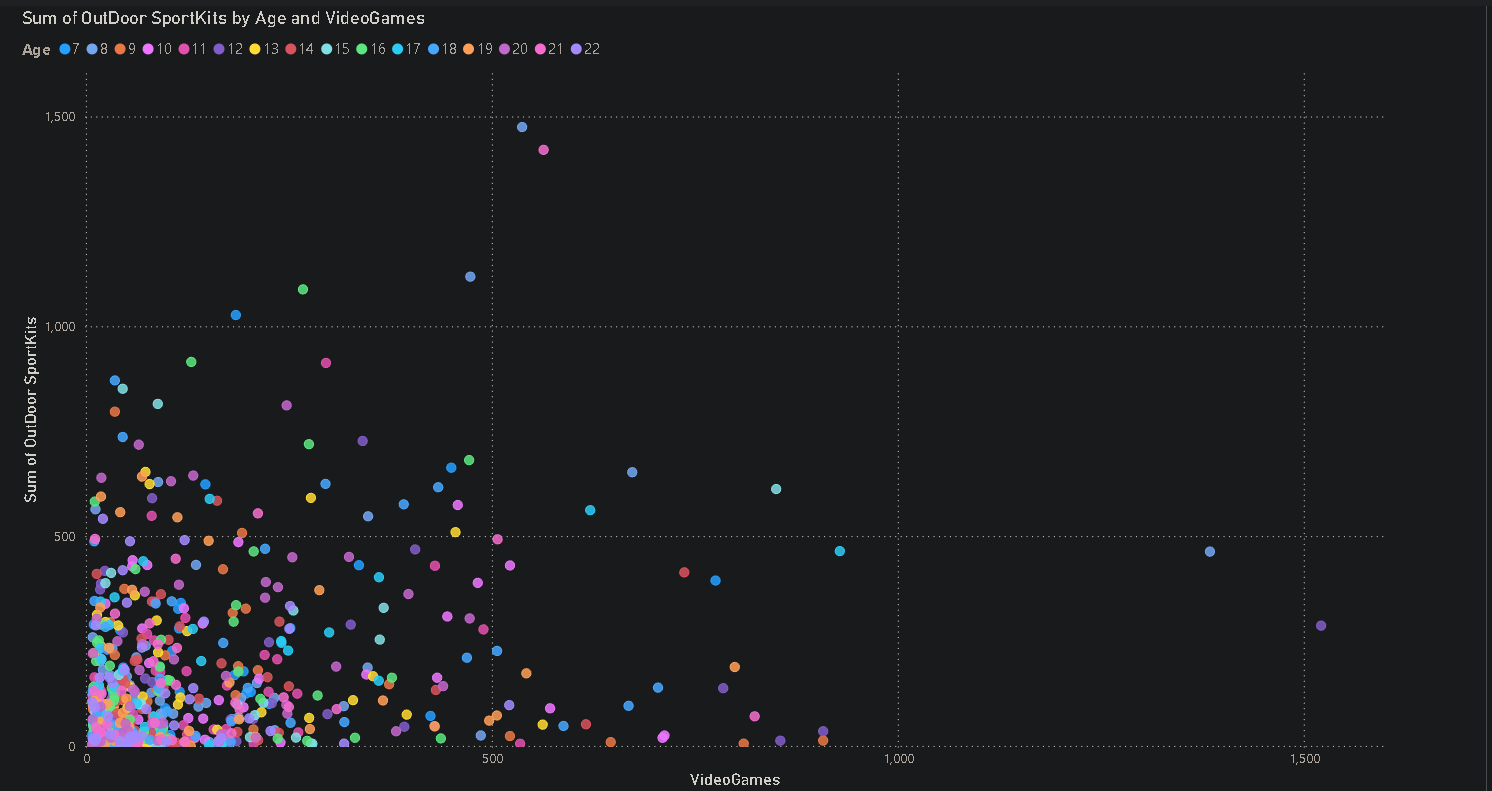

The page's visual inventory and layout, read from the dashboard file:
{"tool":"powerbi","page":{"name":"Page 2","canvas":[1280,720],"ordinal":1},"visuals":[{"type":"scatterChart","fields":{"Series":["Student Survey.Age"],"X":["Student Survey.VideoGames"],"Y":["Sum(Student Survey.OutDoor SportKits)"]},"box":[10.5,0,1269.8,719.8],"z":0}]}

Visuals, with their boxes on the page's 1280x720 design canvas (x1, y1, x2, y2). These are canvas units, not pixel positions in the 1492x791 screenshot, which may show the page scaled, cropped or inside an application window:
scatterChart - Student Survey.Age x Student Survey.VideoGames: {"x1": 10, "y1": 0, "x2": 1280, "y2": 720}
